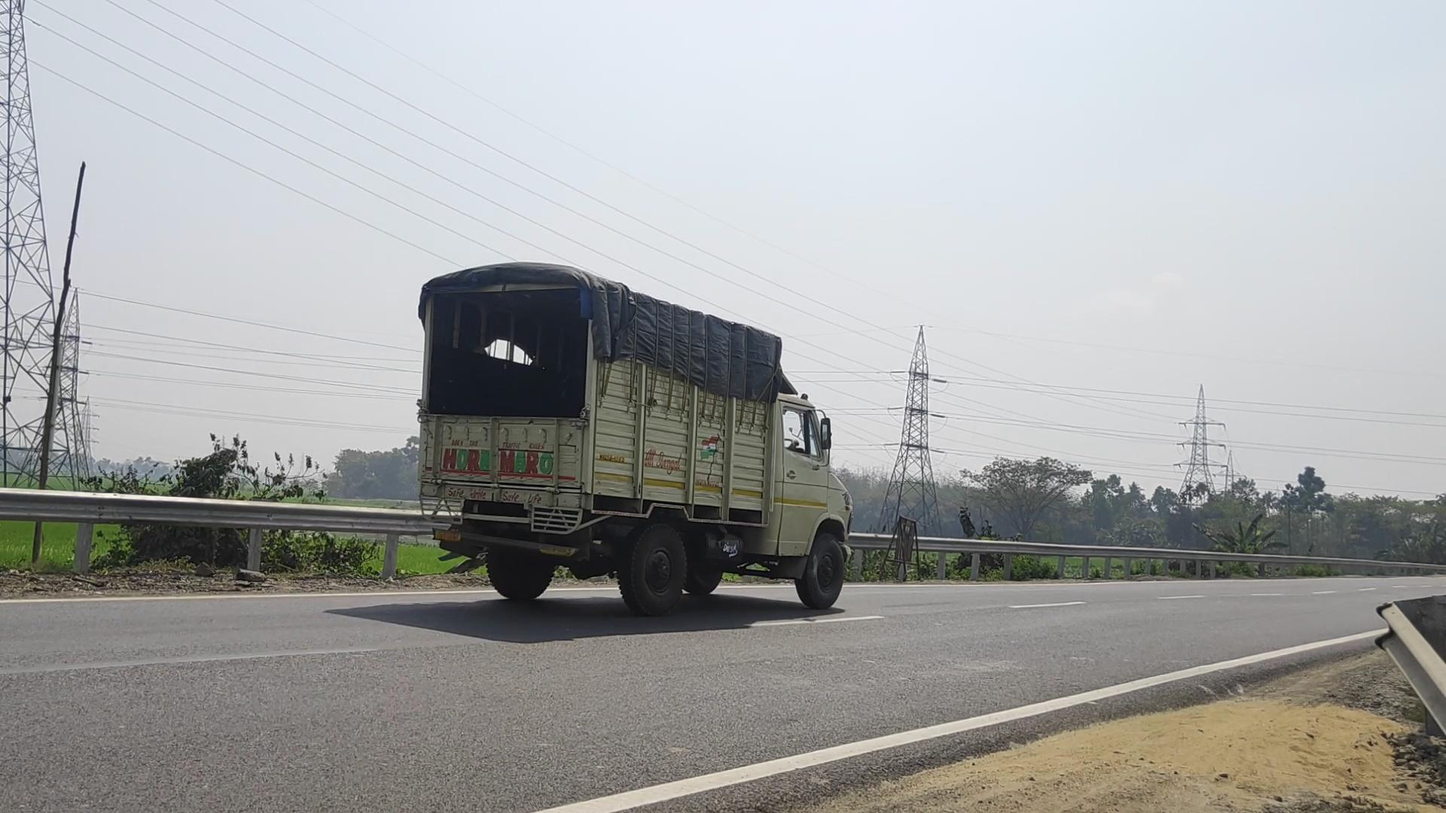truck: (416, 262, 854, 617)
